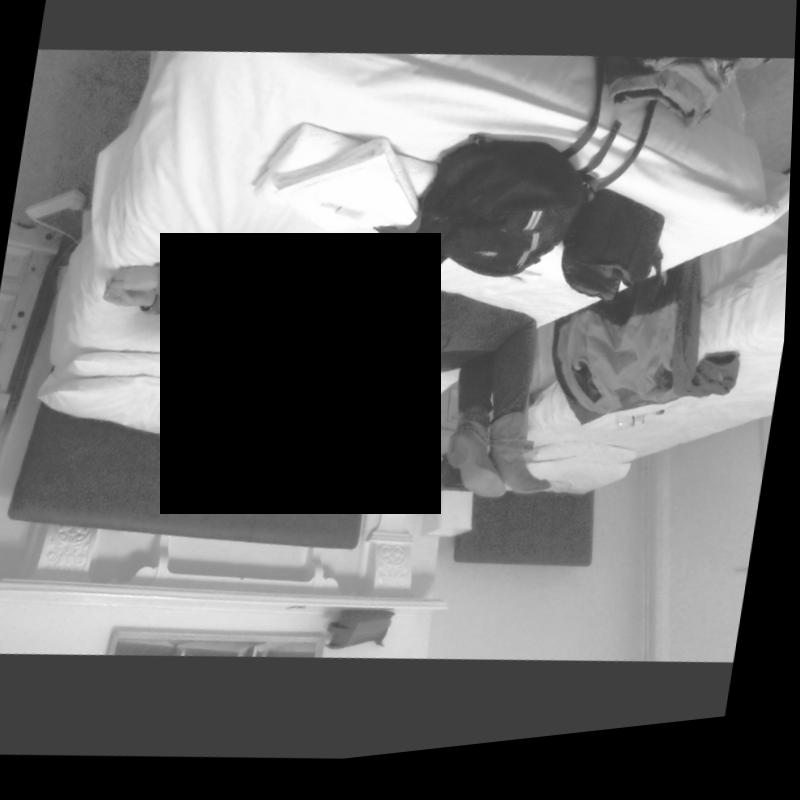pillow: (226, 359, 411, 505), (48, 328, 313, 415), (39, 355, 246, 448), (508, 464, 637, 523), (521, 439, 643, 493)
